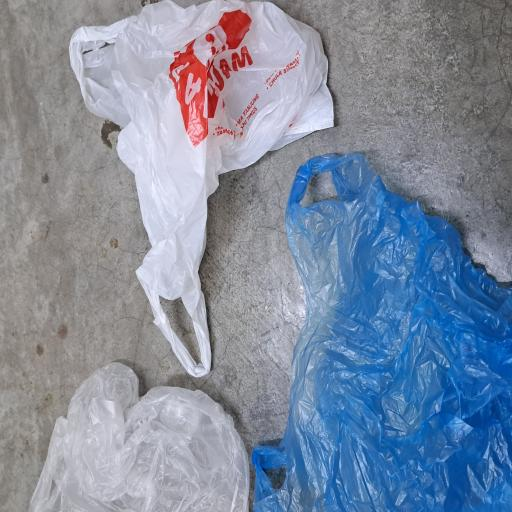plastic bag: (106, 82, 382, 450), (0, 335, 268, 512), (0, 27, 108, 344)
